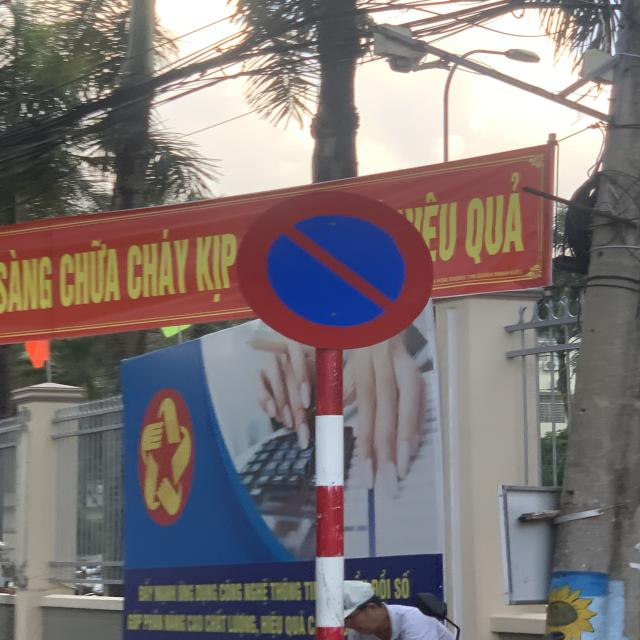Cam_Dau_Xe: (234, 190, 436, 350)
